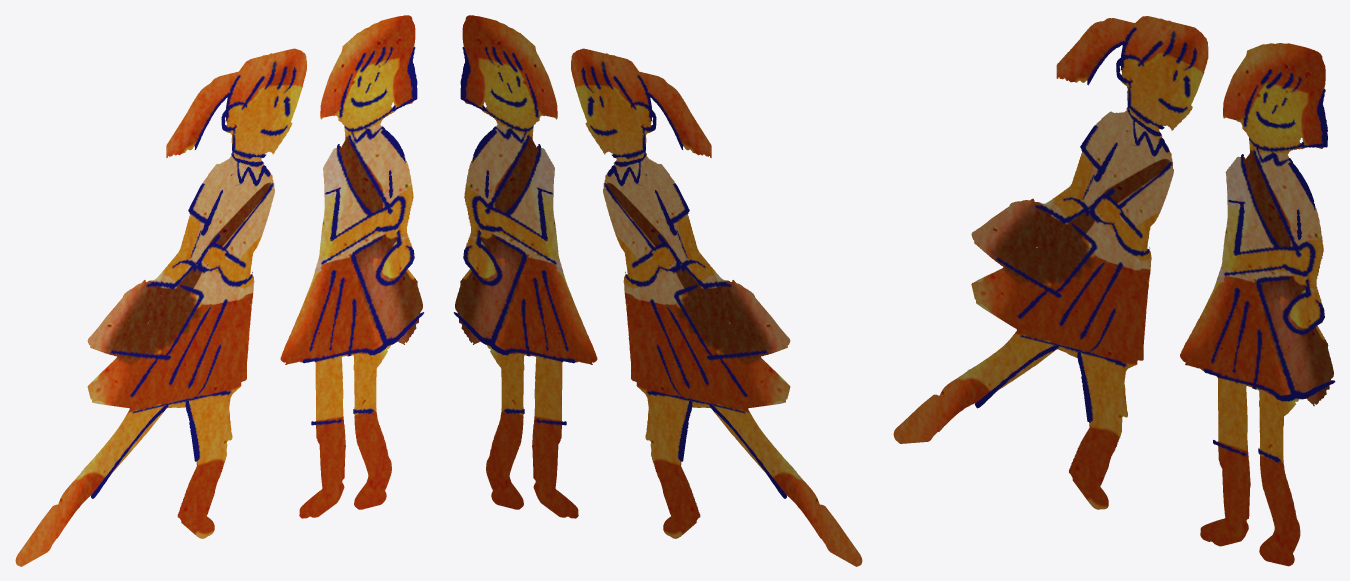
Rendered from people_02.fbx.
3 views of the same model, side by side, from view 1: azimuth 30°, elevation 25°; view 2: azimuth 150°, elevation 25°; view 3: azimuth 330°, elevation 25° (orthographic). The views are drawn at different scales.
Parts seen in each view (by area): view 1: people_02; view 2: people_02; view 3: people_02.
Part boxes in pixels (x1,y1,x2,y2): people_02: (15,15,424,566); people_02: (453,15,862,566); people_02: (893,16,1335,566).
Bounding box in the file's own units: 106 × 120 × 1.43e-05.
Materials: 1 (1 with a texture image).
